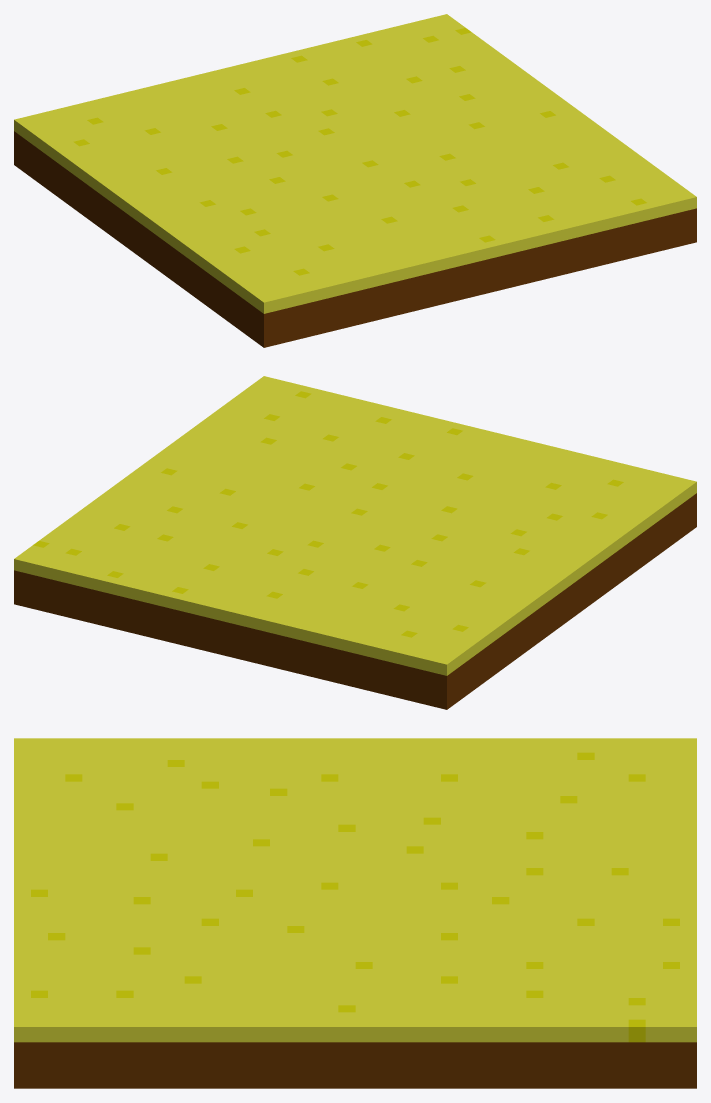
The model's file is desert_ground_dltf.glb.
3 renders of one model, top to bottom at view 1: azimuth 30°, elevation 25°; view 2: azimuth 150°, elevation 25°; view 3: azimuth 270°, elevation 25°, orthographic. The views are drawn at different scales.
Visible parts, largest first — view 1: desert_ground; view 2: desert_ground; view 3: desert_ground.
Boxes of the visible parts, box(x1,y1,x2,y2) form: desert_ground: box(14, 14, 696, 347); desert_ground: box(14, 376, 696, 709); desert_ground: box(14, 738, 696, 1088).
Size of the model in its own units: 4 by 0.4 by 4.
Materials: 1 (1 with a texture image).
